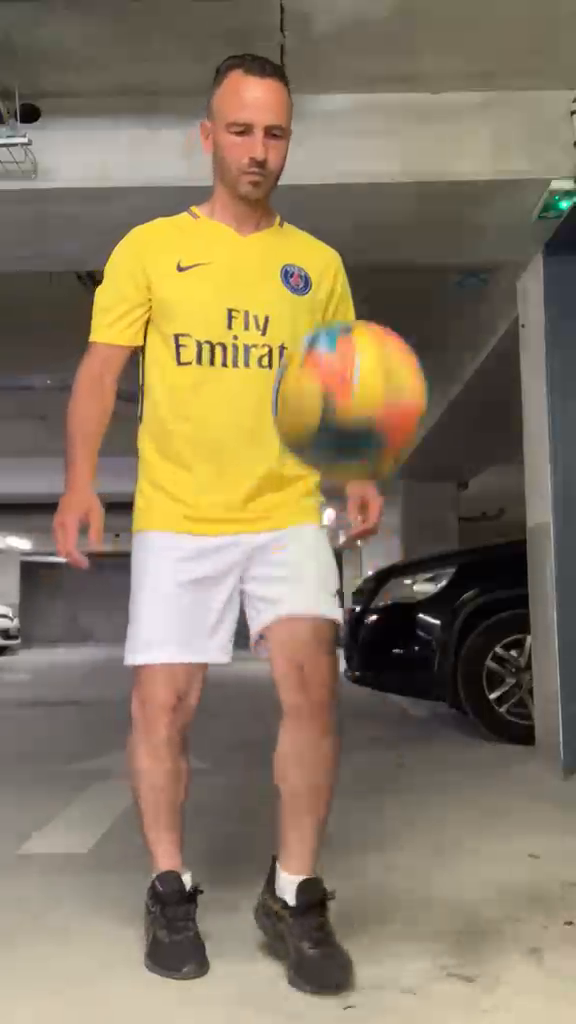ball: (270, 320, 429, 479)
